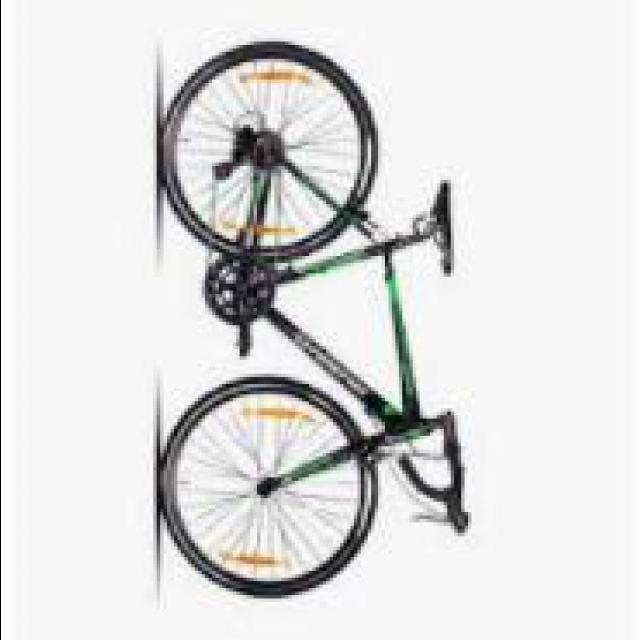bicycle: (150, 49, 468, 571)
